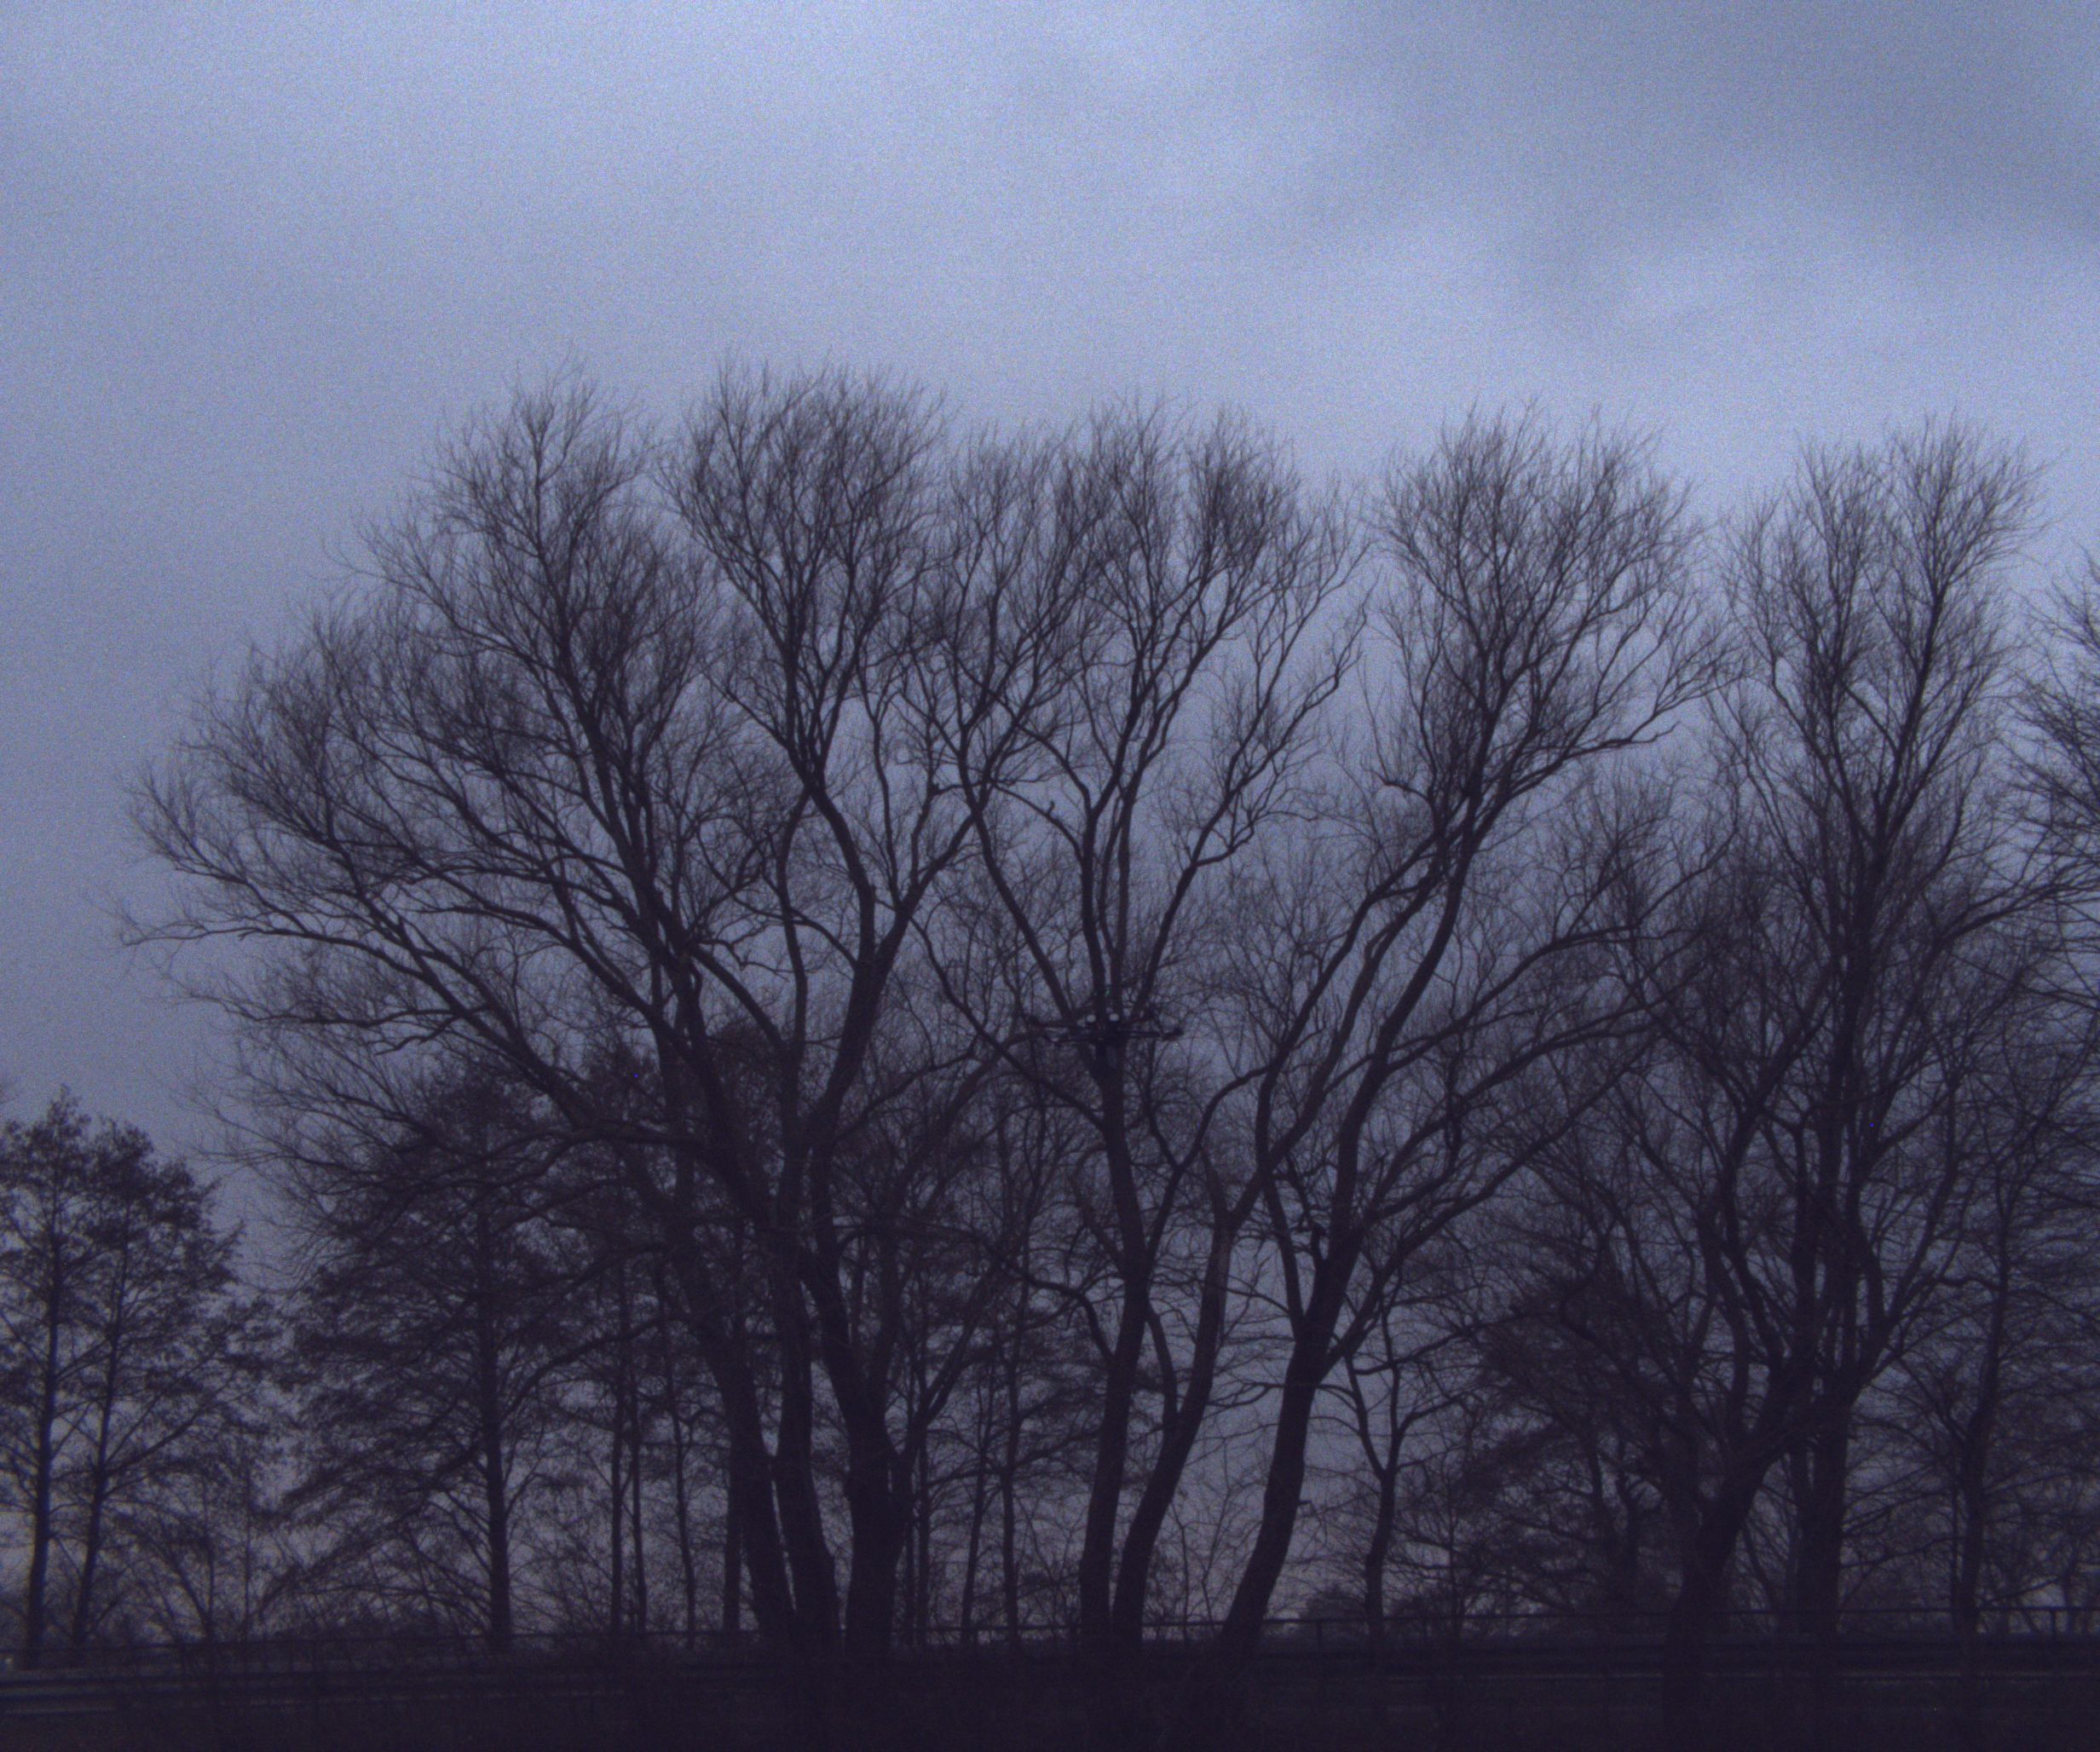Drohne: (1012, 966, 1353, 1165)
